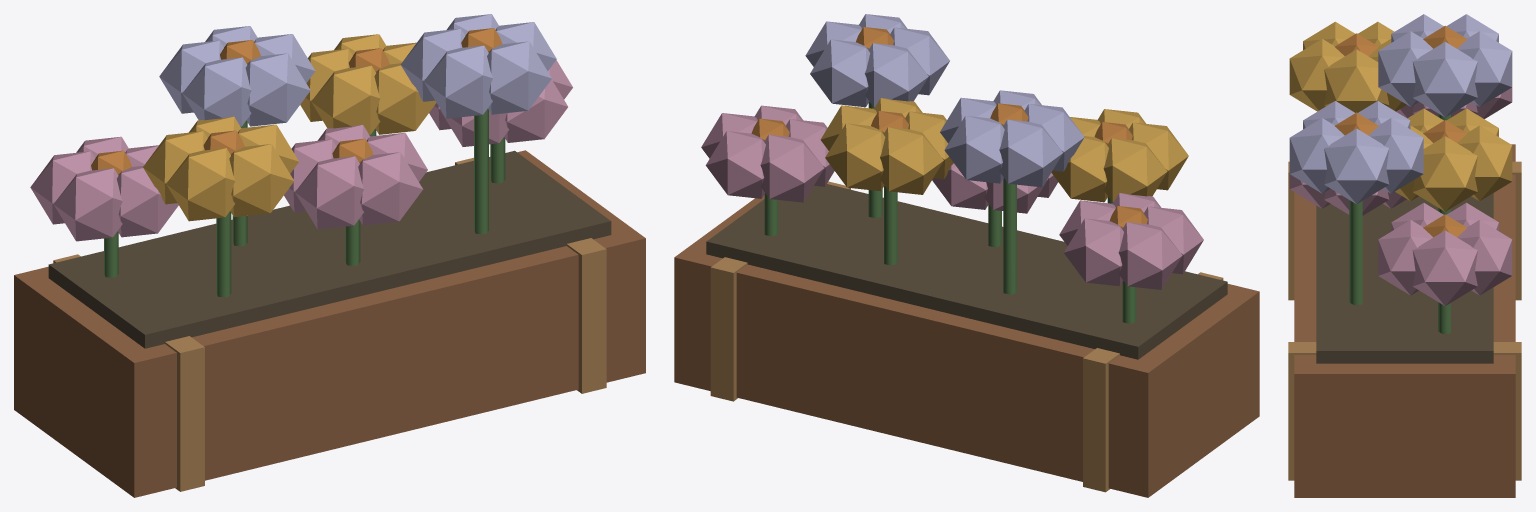
File: pocket-meadow.glb
3 views of the same model, side by side, from view 1: azimuth 30°, elevation 25°; view 2: azimuth 150°, elevation 25°; view 3: azimuth 270°, elevation 25° (orthographic). The views are drawn at different scales.
Visible parts, largest first — view 1: flowers; view 2: flowers; view 3: flowers.
Part boxes in pixels (x1,y1,x2,y2): flowers: [14, 14, 645, 497]; flowers: [674, 14, 1259, 497]; flowers: [1288, 14, 1521, 497].
Bounding box in the file's own units: 1.35 × 0.8853 × 0.58.
